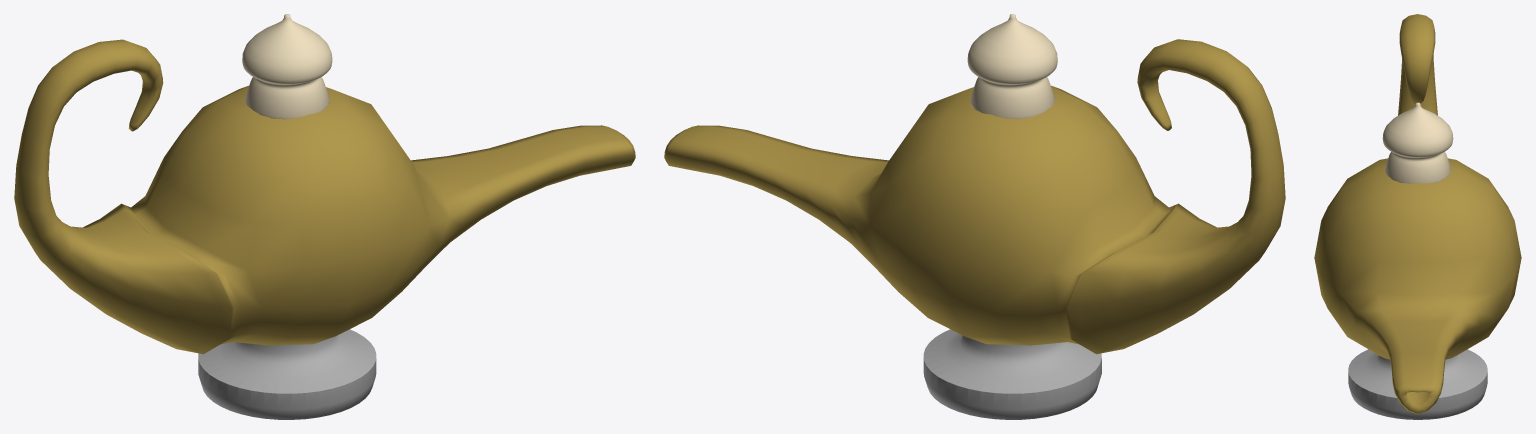
Rendered from lampe.fbx.
The picture shows the model from 3 angles, left to right: view 1: azimuth 30°, elevation 25°; view 2: azimuth 150°, elevation 25°; view 3: azimuth 270°, elevation 25°; orthographic projection. The views are drawn at different scales.
Visible parts, largest first — view 1: pCylinder6; view 2: pCylinder6; view 3: pCylinder6.
Part boxes in pixels (bbox=[...]): pCylinder6: bbox=[14, 14, 635, 419]; pCylinder6: bbox=[664, 14, 1285, 419]; pCylinder6: bbox=[1314, 14, 1521, 419].
Bounding box in the file's own units: 2.34 × 1.42 × 0.8785.
